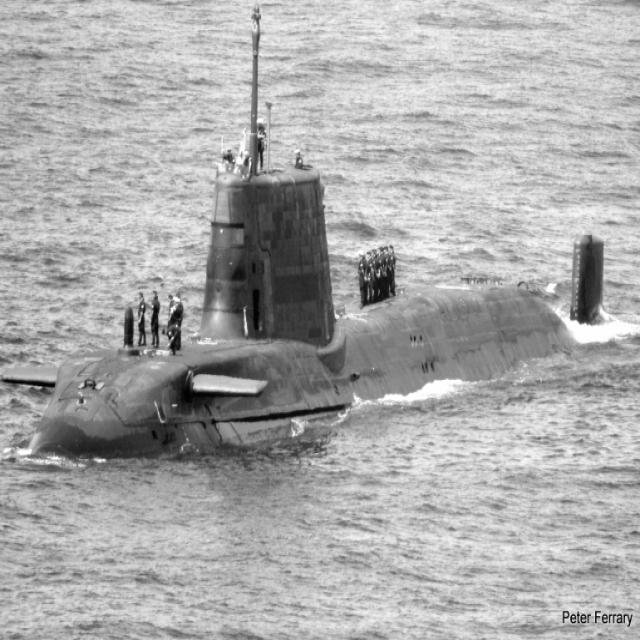submarine: (1, 1, 628, 462)
